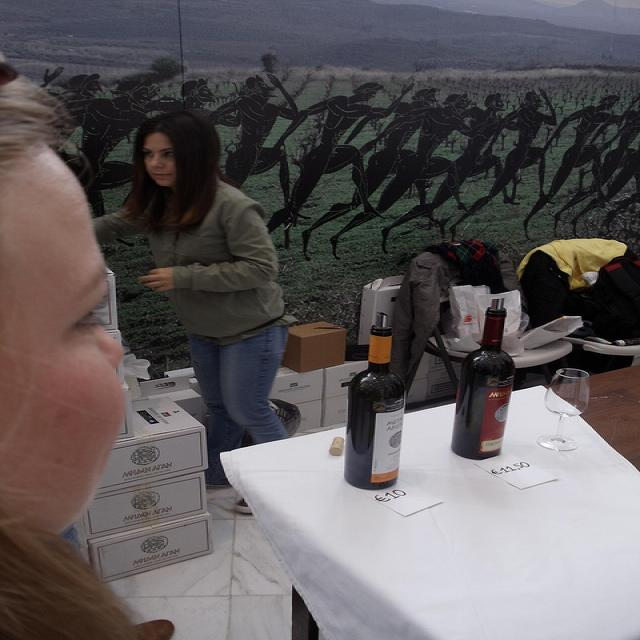chair: (515, 235, 640, 339), (539, 337, 640, 377)
dining table: (219, 365, 640, 633), (580, 366, 640, 473)
